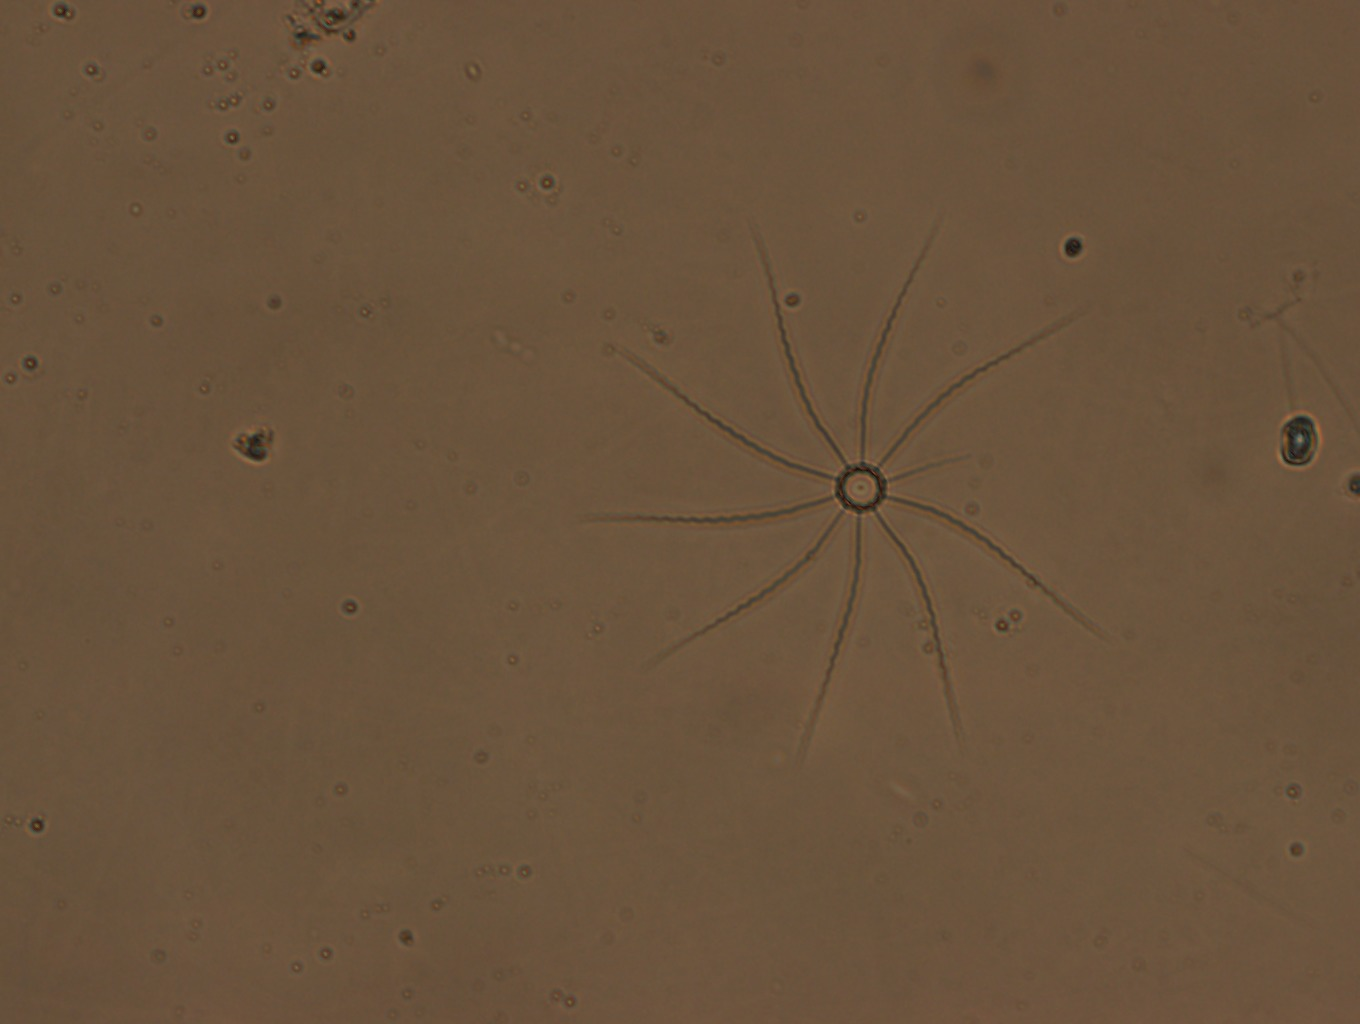bacteriastrum: (583, 210, 1115, 776)
